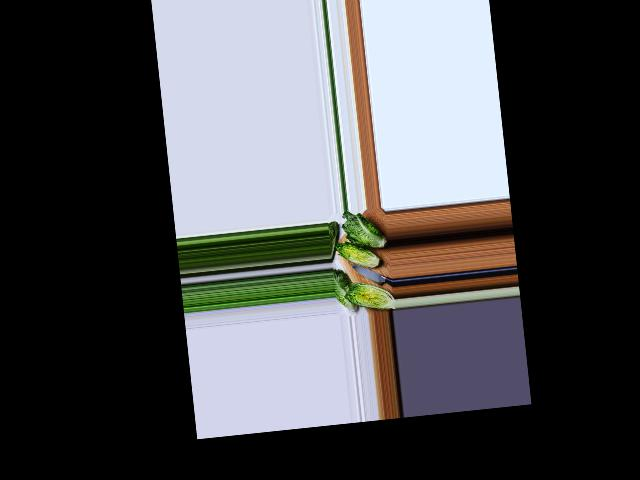lettuce: (334, 268, 357, 312)
